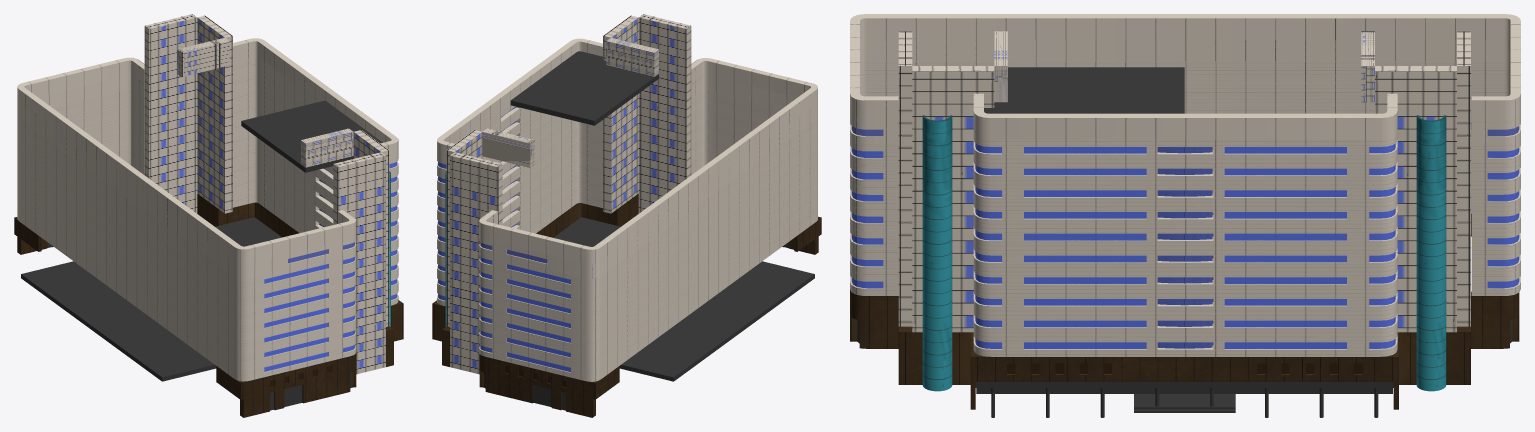
File: Gedung1.fbx
3 views of the same model, side by side, from view 1: azimuth 30°, elevation 25°; view 2: azimuth 150°, elevation 25°; view 3: azimuth 270°, elevation 25° (orthographic). The views are drawn at different scales.
Visible parts, largest first — view 1: Cube.003; view 2: Cube.003; view 3: Cube.003.
Part boxes in pixels (x1,y1,x2,y2): Cube.003: [14, 14, 403, 417]; Cube.003: [432, 14, 821, 417]; Cube.003: [850, 14, 1520, 417].
Size of the model in its own units: 5982 by 5208 by 9803.
